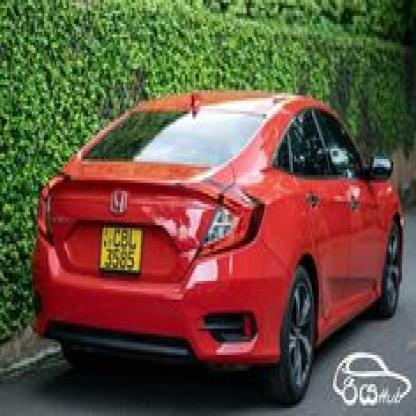car back: (30, 85, 405, 401)
number plate: (101, 226, 138, 275)
